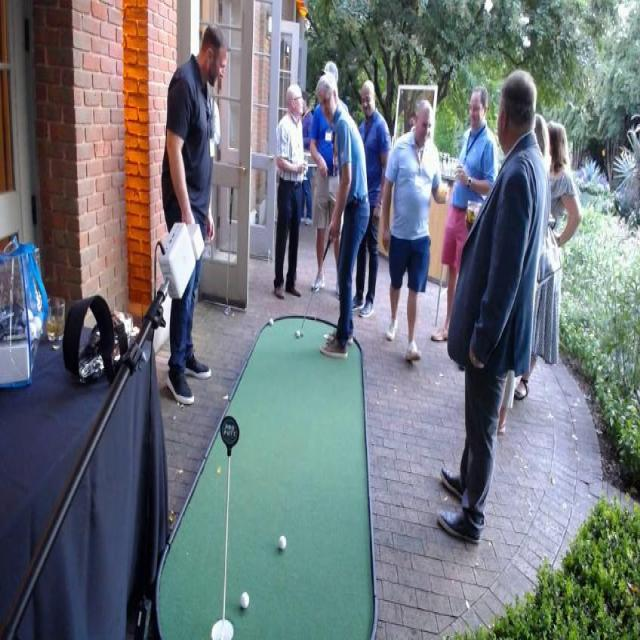GolfBall: (274, 528, 290, 555), (236, 585, 252, 612), (265, 315, 277, 328), (292, 327, 304, 340)
